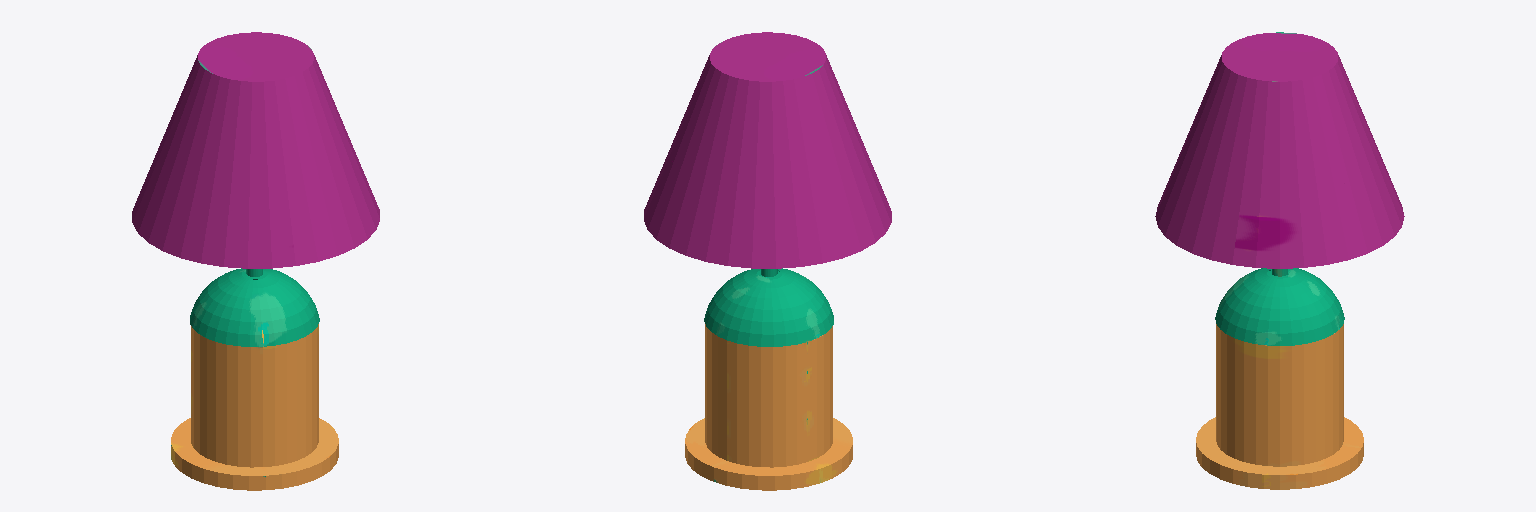
3 views of the same model, side by side, from view 1: azimuth 30°, elevation 25°; view 2: azimuth 150°, elevation 25°; view 3: azimuth 270°, elevation 25° (orthographic).
Parts seen in each view (by area): view 1: Cilindro.011_Cilindro.013; view 2: Cilindro.011_Cilindro.013; view 3: Cilindro.011_Cilindro.013.
Boxes of the visible parts, x1=… form: Cilindro.011_Cilindro.013: x1=132, y1=32, x2=379, y2=490; Cilindro.011_Cilindro.013: x1=644, y1=32, x2=891, y2=490; Cilindro.011_Cilindro.013: x1=1155, y1=32, x2=1404, y2=489.
Size of the model in its own units: 2.43 by 4.28 by 2.43.
Materials: 1 (1 with a texture image).